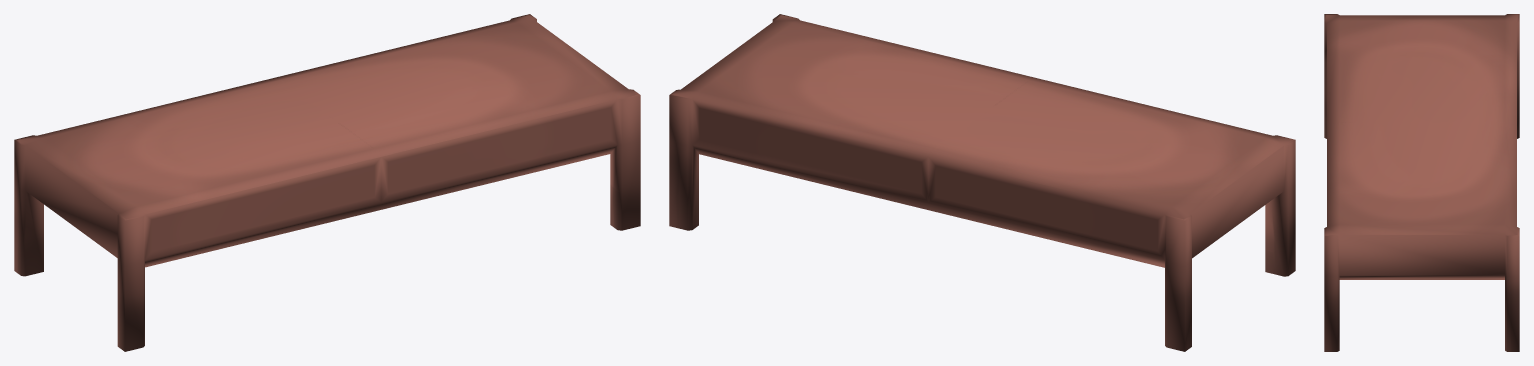
File: CoffeeTable_MOD.fbx
3 renders of one model, left to right at view 1: azimuth 30°, elevation 25°; view 2: azimuth 150°, elevation 25°; view 3: azimuth 270°, elevation 25°, orthographic. The views are drawn at different scales.
Visible parts, largest first — view 1: Cube; view 2: Cube; view 3: Cube.
Part boxes in pixels (bbox=[...]): Cube: bbox=[14, 14, 640, 351]; Cube: bbox=[669, 14, 1295, 351]; Cube: bbox=[1324, 14, 1519, 351].
Bounding box in the file's own units: 164 × 40.64 × 60.96.
